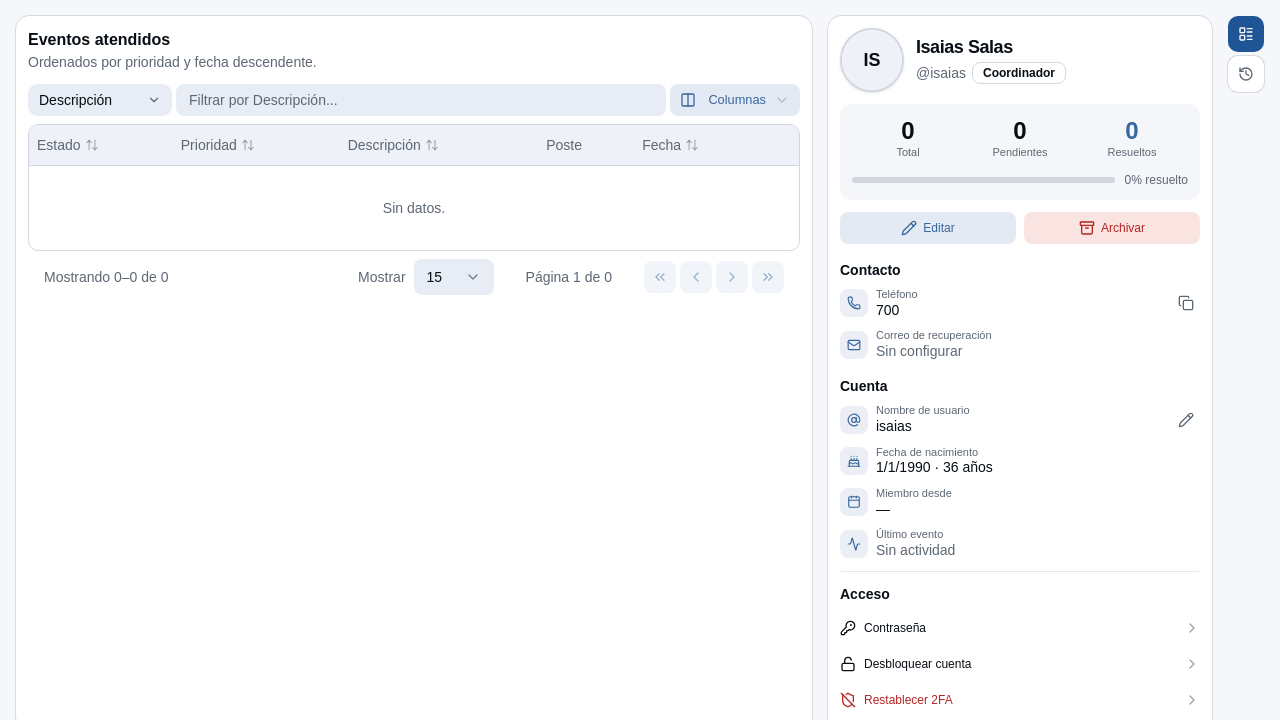
Test: the views of the panel › names who ran a rescue, which the server writes against the rescued account
Click the tab named "Bitácora". click: (1246, 74)
box: 1228,56 -> 1264,92
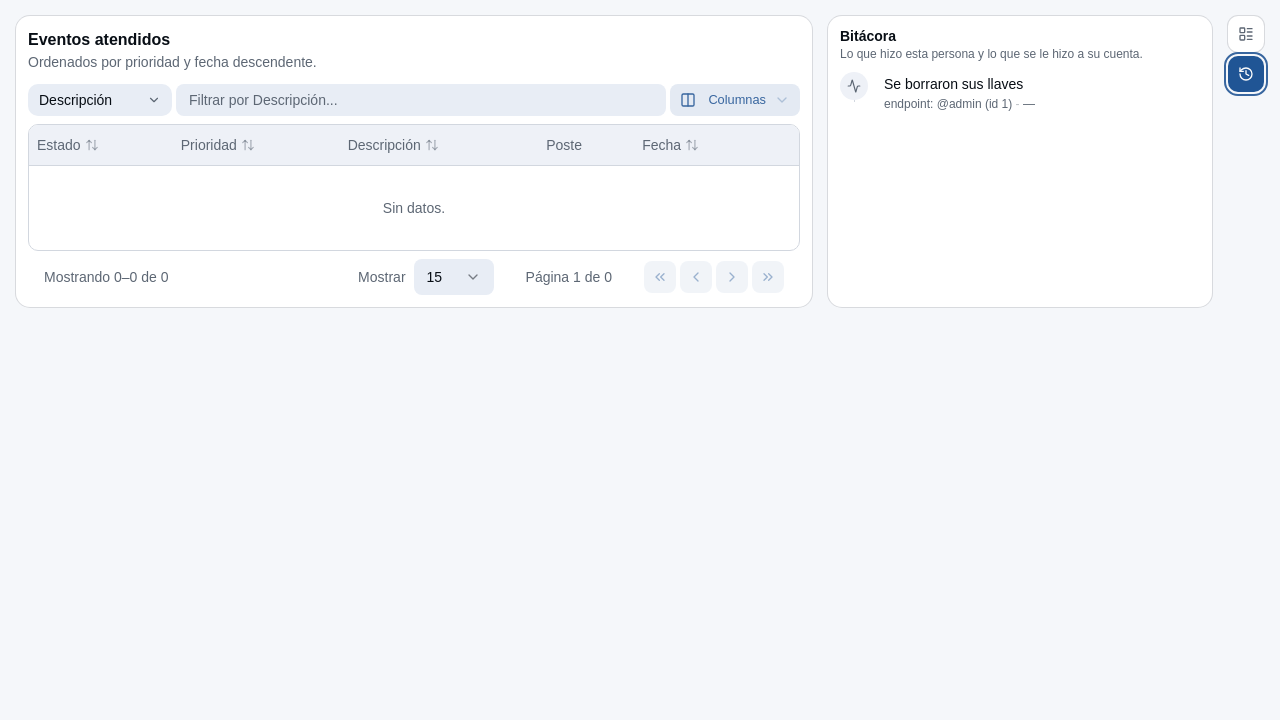
Now the text "Se borraron sus llaves" shows "endpoint: @admin (id 1)", box 884,97 -> 1012,111
